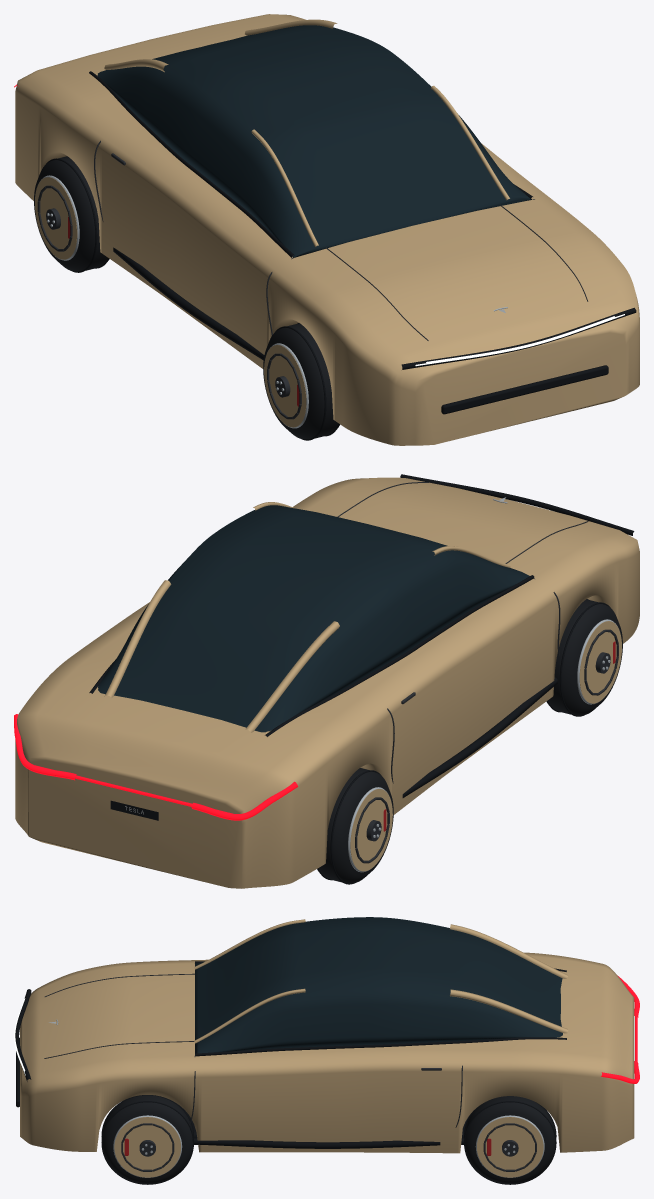
Rendered from tesla-cybercab.glb.
3 views of the same model, one above another, from view 1: azimuth 30°, elevation 25°; view 2: azimuth 150°, elevation 25°; view 3: azimuth 270°, elevation 25° (orthographic). The views are drawn at different scales.
Visible parts, largest first — view 1: body-paint (×3), tinted-glass, tire-rubber, black-polymer (×3), graphite-metal (×2), machined-alloy, headlight-lens; view 2: body-paint (×3), tinted-glass, tire-rubber, black-polymer (×3), graphite-metal (×2), tail-light-lens, machined-alloy; view 3: body-paint (×3), tinted-glass, tire-rubber, black-polymer (×3), graphite-metal (×2), machined-alloy, tail-light-lens.
Part boxes in pixels (x1,y1,x2,y2): body-paint (×3): (15,14,639,445); tinted-glass: (97,25,532,257); tire-rubber: (34,156,339,439); black-polymer (×3): (46,71,636,440); graphite-metal (×2): (37,140,588,419); machined-alloy: (38,175,308,428); headlight-lens: (415,314,624,366); body-paint (×3): (15,477,639,888); tinted-glass: (98,505,529,732); tire-rubber: (317,599,622,883); black-polymer (×3): (89,474,634,884); graphite-metal (×2): (337,482,618,863); tail-light-lens: (14,714,297,820); machined-alloy: (348,619,618,872); body-paint (×3): (20,919,634,1177); tinted-glass: (195,917,562,1055); tire-rubber: (102,1095,555,1184); black-polymer (×3): (15,961,566,1184); graphite-metal (×2): (44,973,536,1171); machined-alloy: (113,1115,544,1177); tail-light-lens: (601,975,639,1083).
Bounding box in the file's own units: 2.19 × 1.45 × 4.58.
11 materials, 1 textured.
